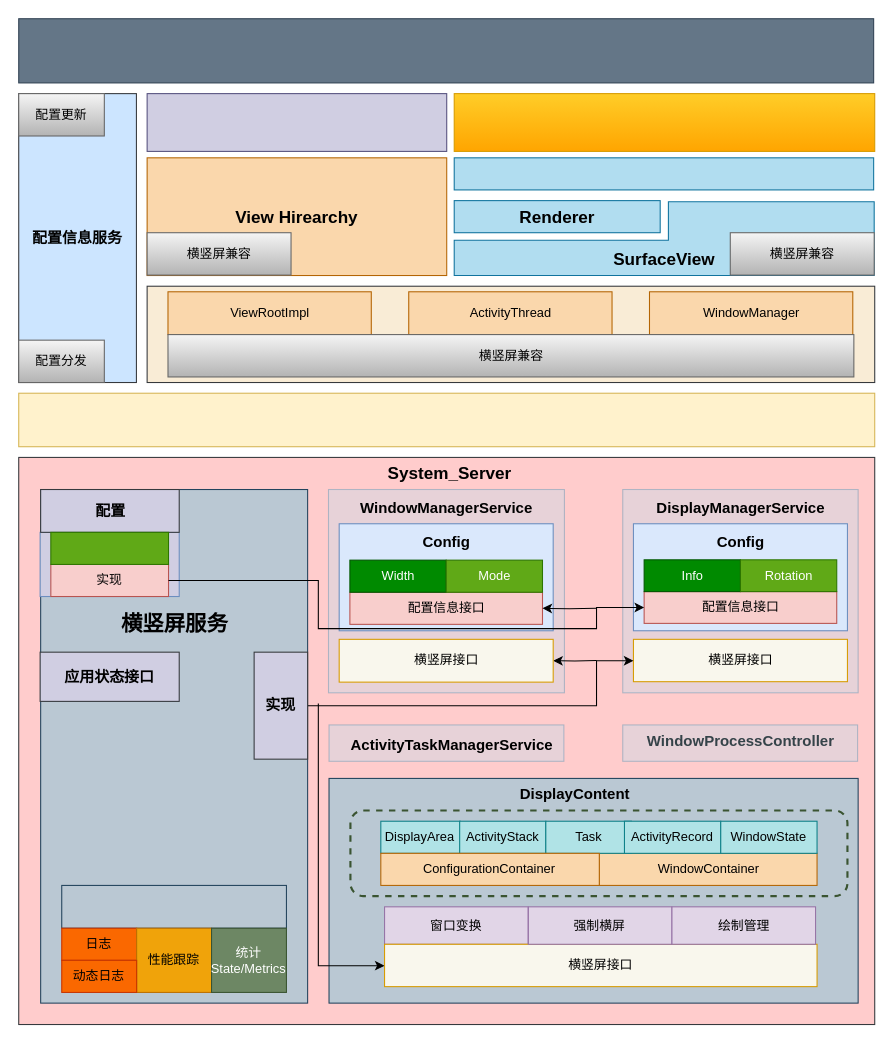
Image size: 893x1043. Some labels were removed from this diagram. The shapes that lost their labels are listed below. From the top down, each one's centre as x and y in pixels, then its label:
At point 446,50: "Activity/Application".
At point 296,122: "Native Canvas/Skia".
At point 664,122: "Hybird/Web/Flutter/Unity/Cocos2d".
At point 663,173: "Channel".
At point 446,419: "Binder".
At point 109,547: "Cache".
At point 173,906: "调试能力/性能".
